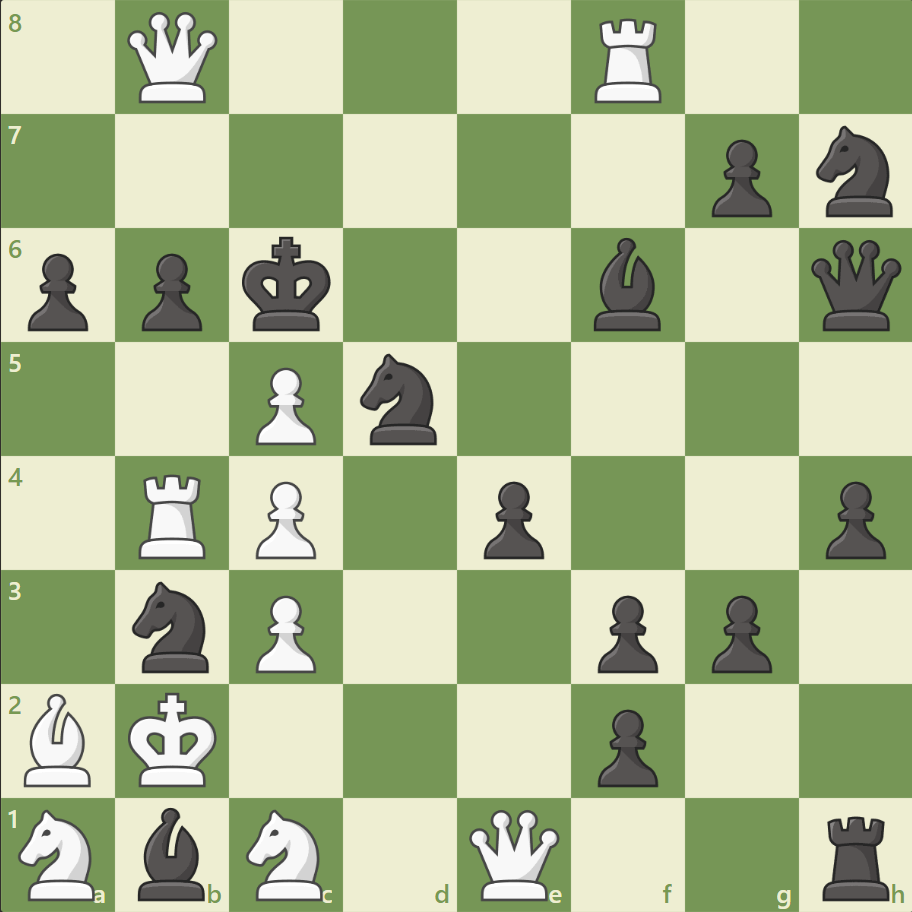B: (17, 687, 101, 790)
K: (124, 685, 224, 793)
N: (11, 802, 108, 904), (238, 802, 335, 904)
P: (247, 359, 322, 450), (247, 473, 322, 564), (247, 586, 322, 677)
Q: (124, 9, 223, 108), (464, 804, 563, 903)
R: (587, 12, 670, 109), (133, 466, 215, 563)
b: (585, 233, 669, 336), (131, 801, 215, 904)
k: (238, 231, 338, 339)
n: (351, 348, 449, 450), (124, 575, 222, 677), (806, 121, 903, 223)
p: (701, 132, 776, 223), (20, 246, 95, 337), (133, 246, 208, 337), (474, 473, 549, 564), (701, 586, 776, 677), (815, 473, 889, 564), (588, 586, 662, 677), (588, 700, 662, 791)
q: (805, 236, 904, 335)
r: (814, 806, 897, 904)
